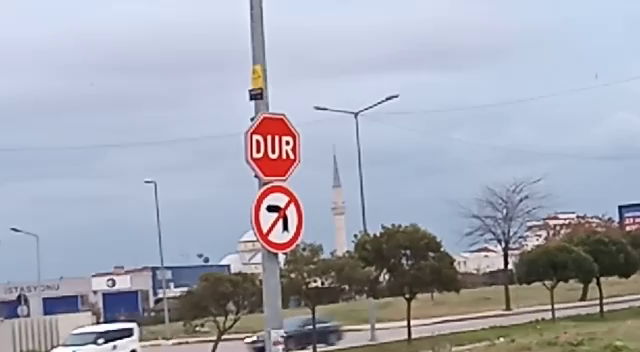no_left: (249, 181, 307, 256)
stop: (240, 109, 303, 185)
